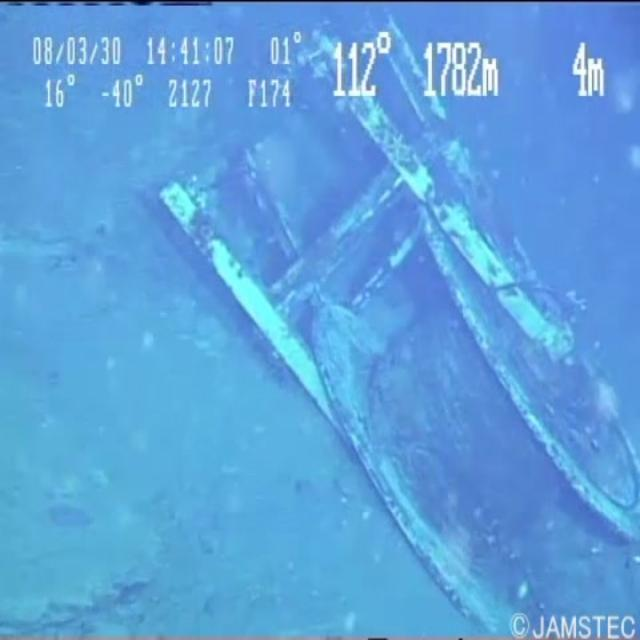Metal: (151, 12, 640, 628)
